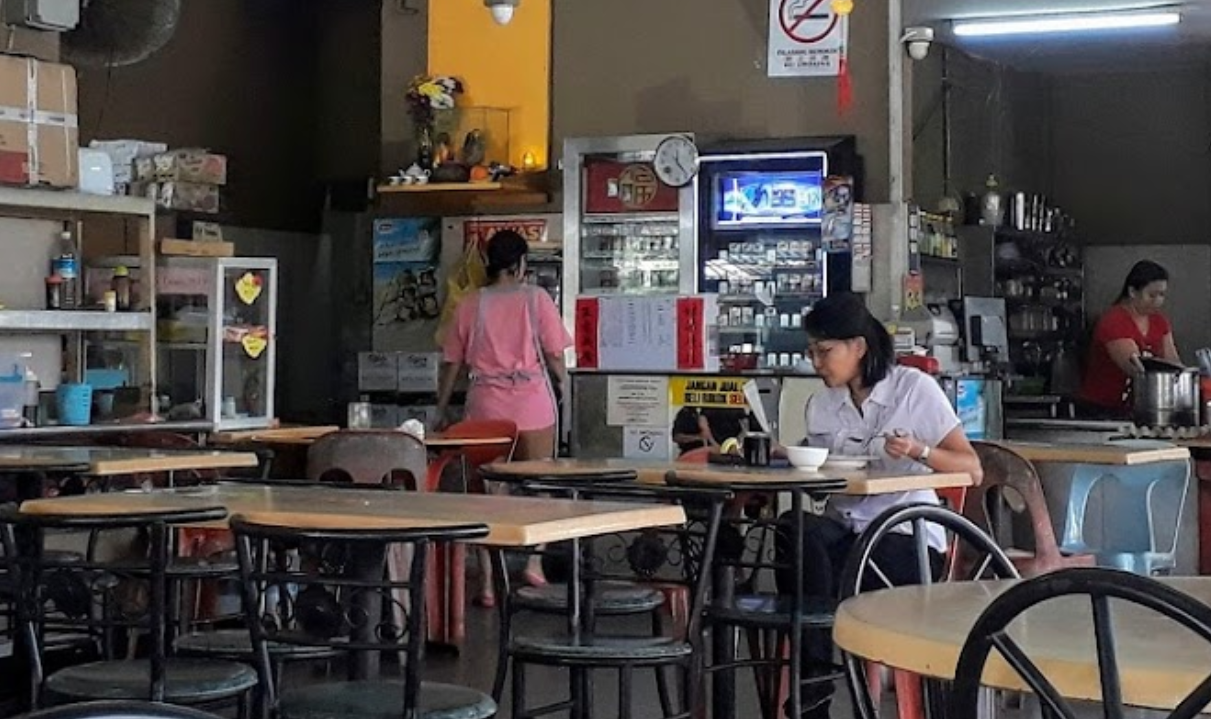sit: (760, 292, 989, 588)
stand: (462, 210, 617, 574)
